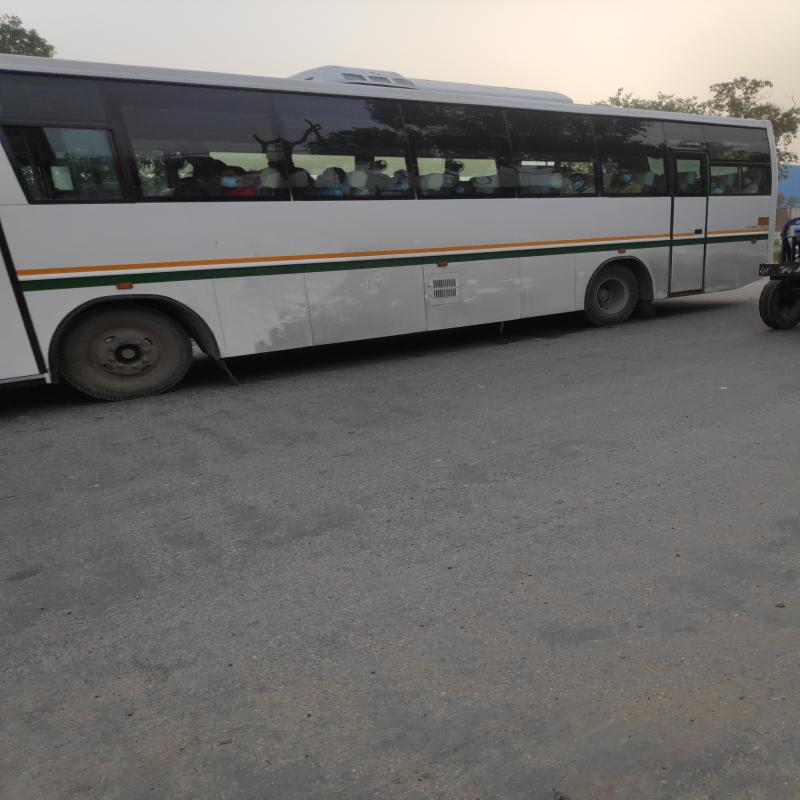bus: (8, 56, 786, 353)
